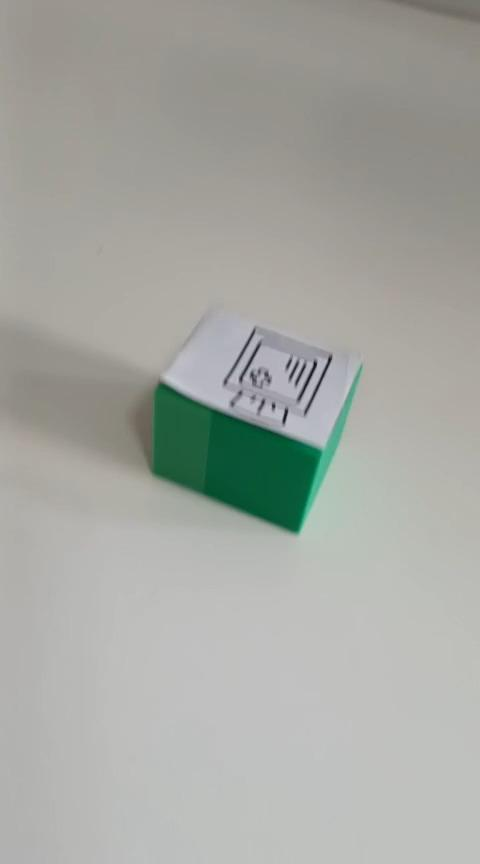Gauze: (150, 302, 363, 535)
